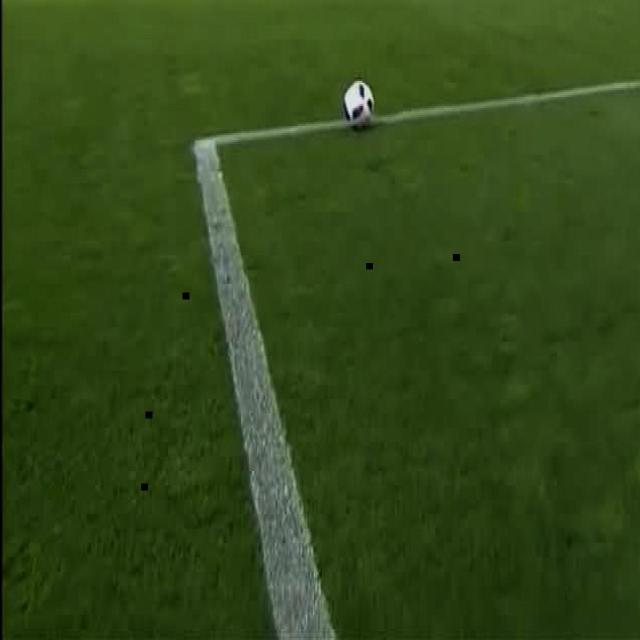ball: (343, 79, 375, 129)
